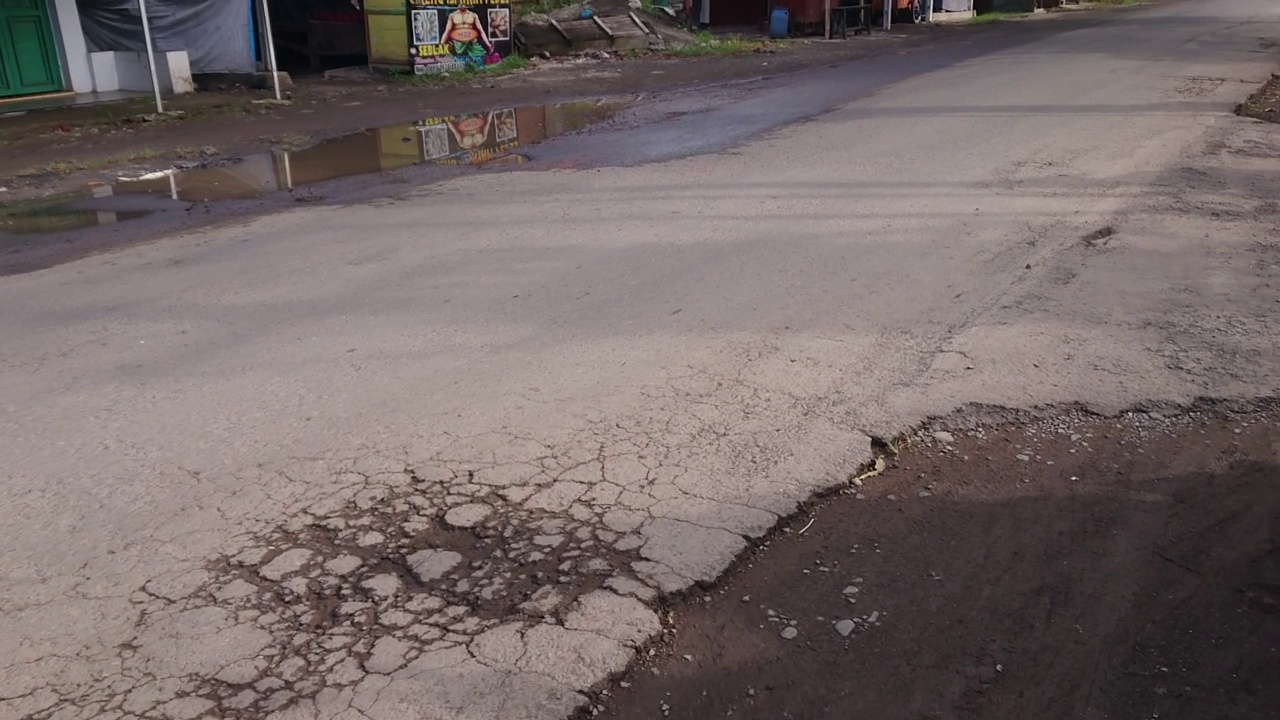Retak: (205, 417, 635, 719), (1193, 274, 1259, 398)
